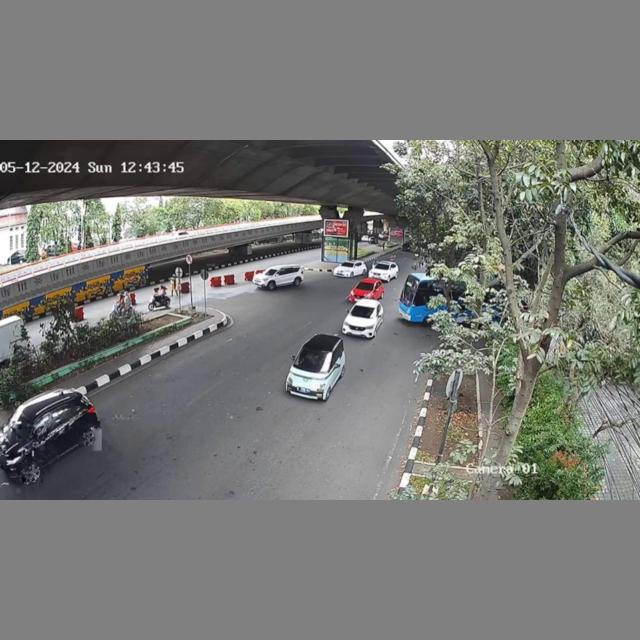windshield: (295, 345, 330, 375), (351, 304, 378, 318), (354, 281, 375, 290)
